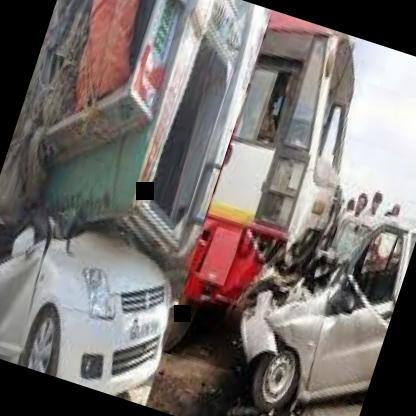accident: (0, 0, 280, 409), (167, 22, 416, 416)
